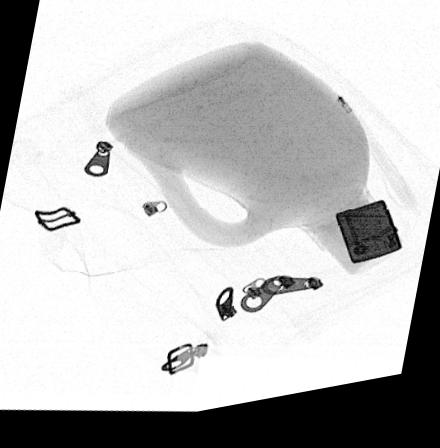Lighter: (333, 212, 401, 277)
